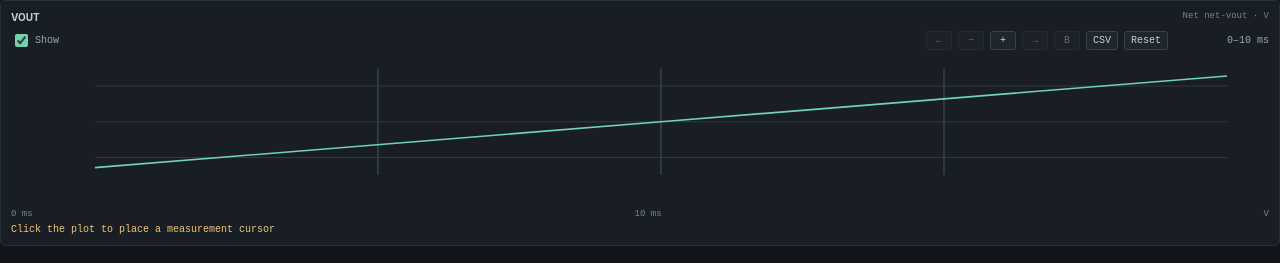
Scenario: waveform viewer › measures elapsed time, voltage change, and frequency between two cursors
Step 1. Click the picture named "VOUT waveform" → (640, 130), box [11, 57, 1269, 202]
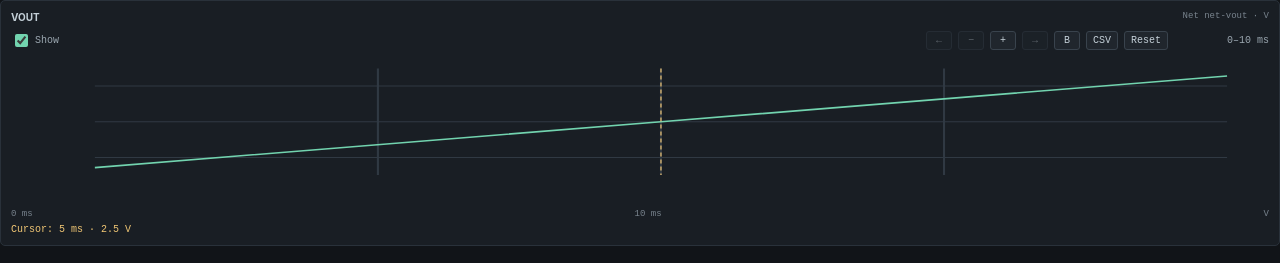
Step 2. Click the button named "Place second cursor for VOUT" → (1067, 40), box [1054, 31, 1080, 50]
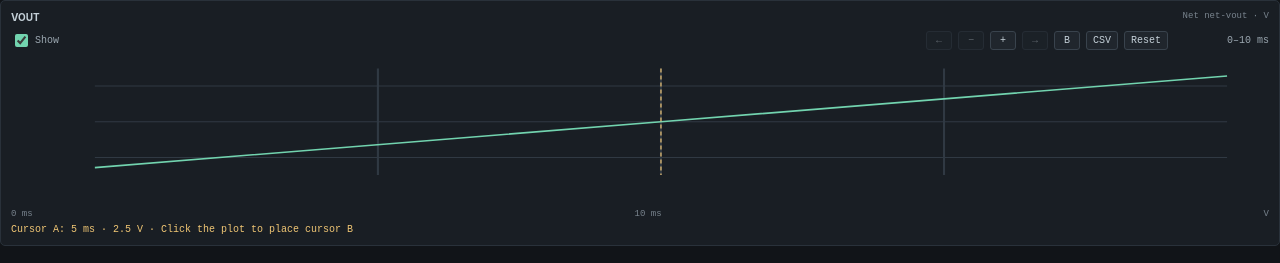
Step 3. Click the picture named "VOUT waveform" → (640, 130), box [11, 57, 1269, 202]
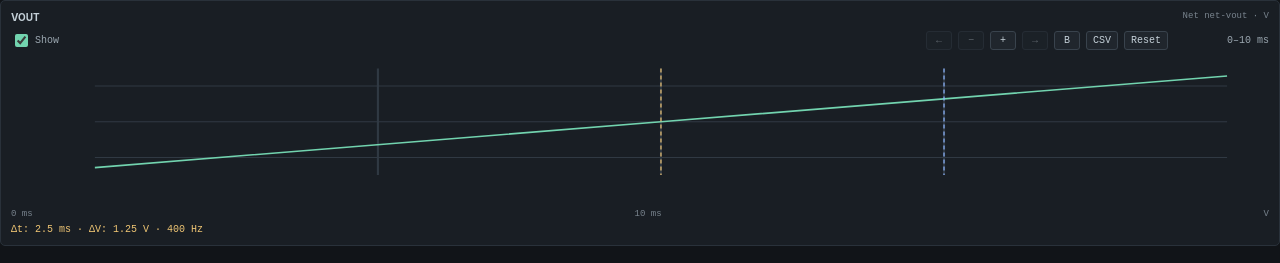
expect the text "Δt: 2.5 ms · ΔV: 1.25 V · 400 Hz" is shown: met, box [11, 224, 203, 235]
